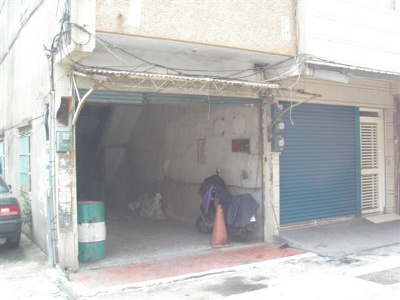bucket: (77, 200, 107, 262)
